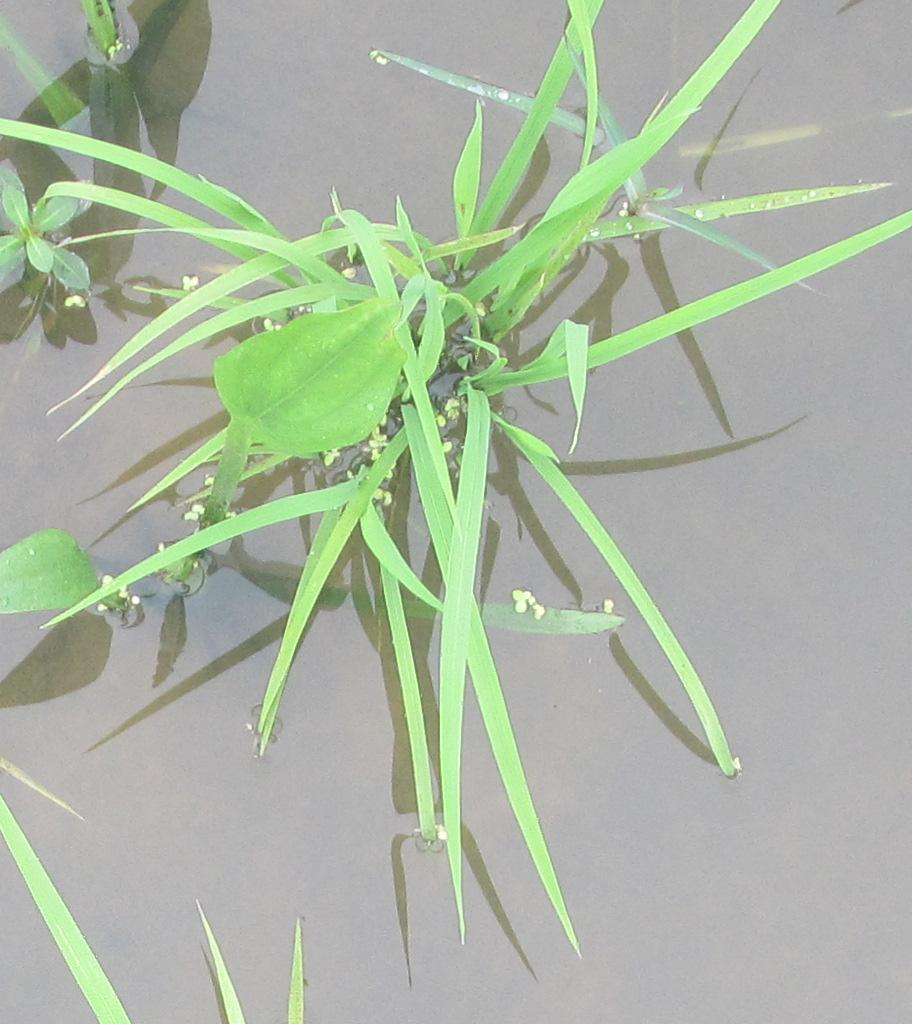Weed: (208, 307, 408, 453), (5, 522, 130, 636), (11, 167, 94, 300)
